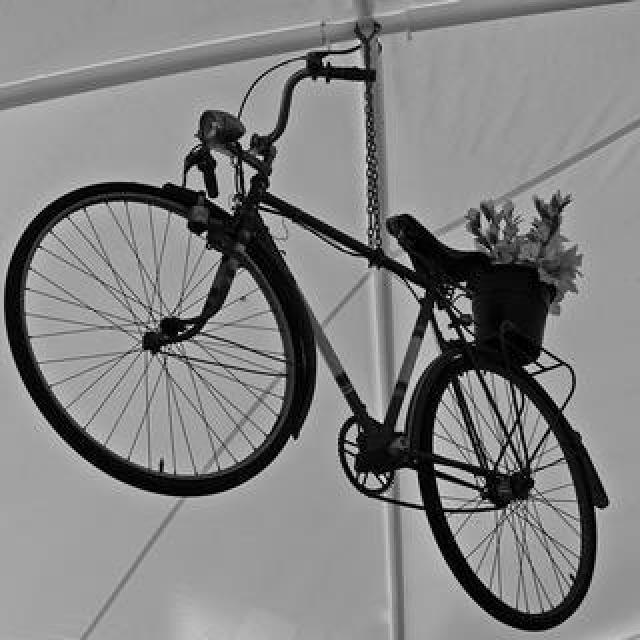Person: (4, 18, 612, 636)
